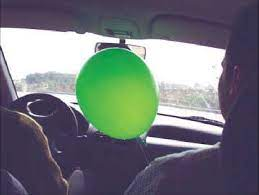Balloon: (75, 47, 158, 138)
